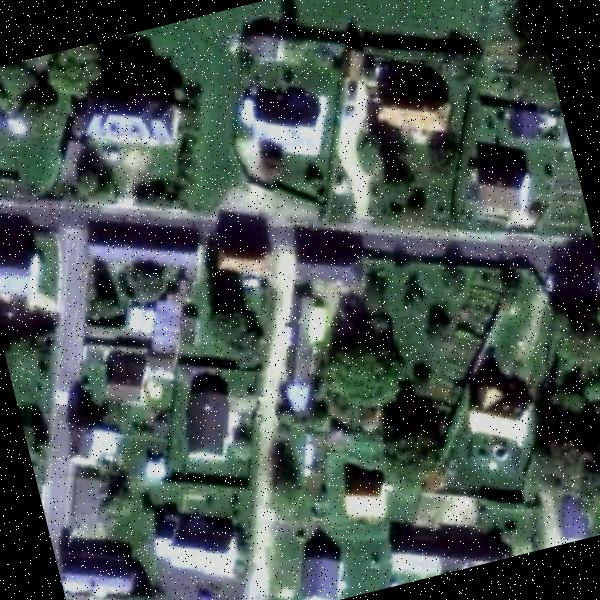Buildings: (149, 508, 241, 587), (78, 92, 178, 160), (90, 219, 196, 283), (176, 390, 242, 468), (57, 540, 136, 600), (473, 156, 537, 226), (379, 87, 456, 141), (468, 386, 537, 442), (0, 236, 49, 308), (253, 98, 320, 150), (210, 233, 278, 283), (295, 242, 361, 293), (290, 553, 348, 600), (343, 474, 391, 528), (68, 430, 109, 474), (110, 372, 144, 400)
